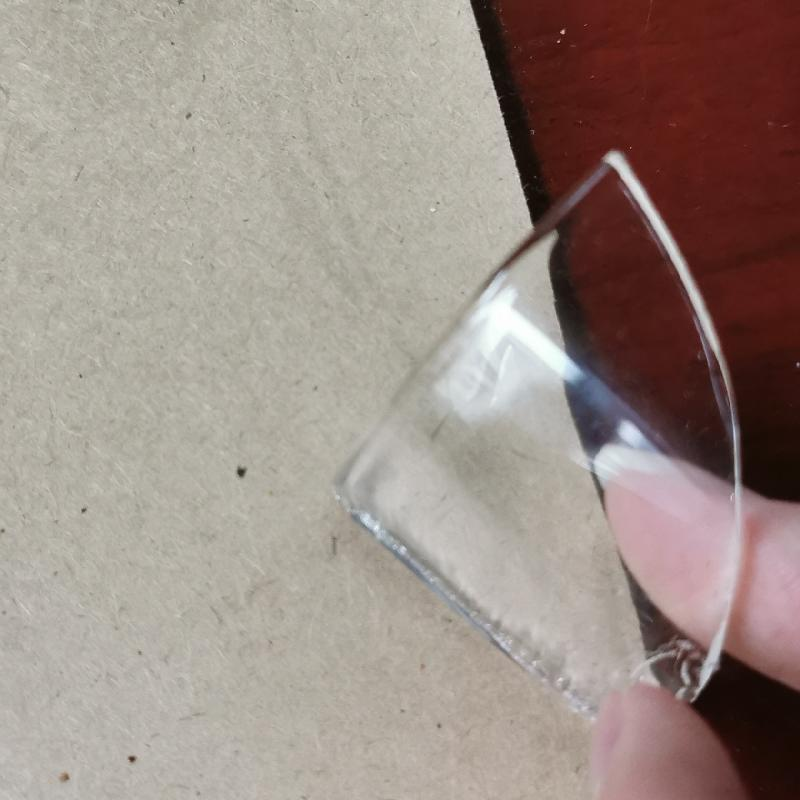glass: (328, 164, 752, 744)
